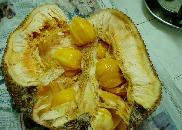jackfruit: (3, 3, 163, 129), (67, 15, 99, 45)
